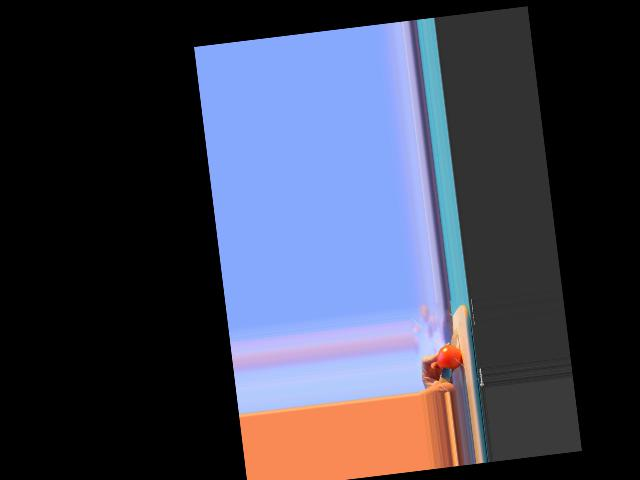tomato: (435, 342, 463, 371)
